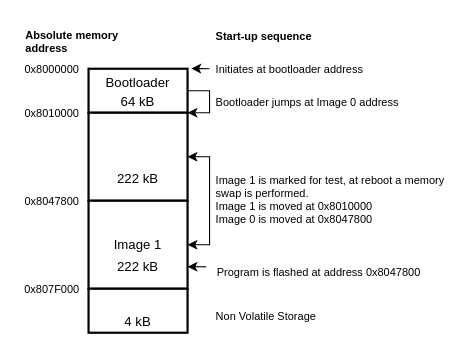
This 464x352 diagram has some shape labels left out. Each missing label, with the box of its shape:
Image 0: (87, 111, 188, 201)
NVS: (87, 287, 188, 333)
